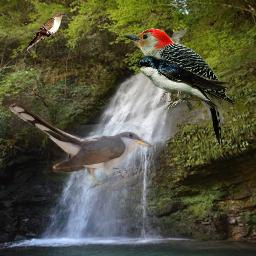Cuckoo: (7, 97, 155, 191), (27, 12, 66, 50)
Swallow: (135, 55, 232, 112)
Woodpecker: (123, 28, 234, 146)
